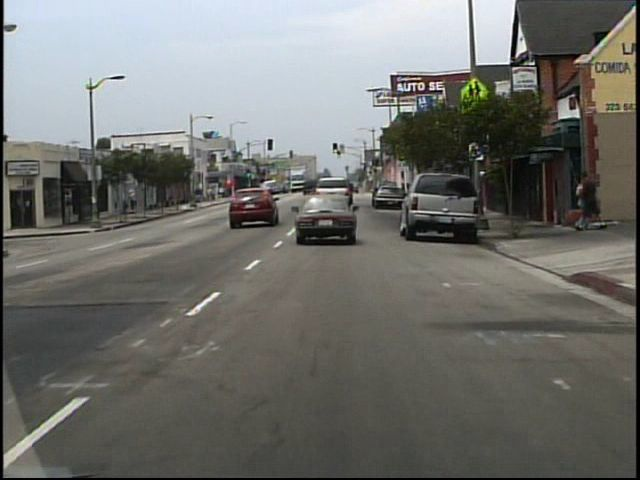person: (579, 165, 605, 231), (574, 174, 594, 231), (129, 187, 140, 214)
